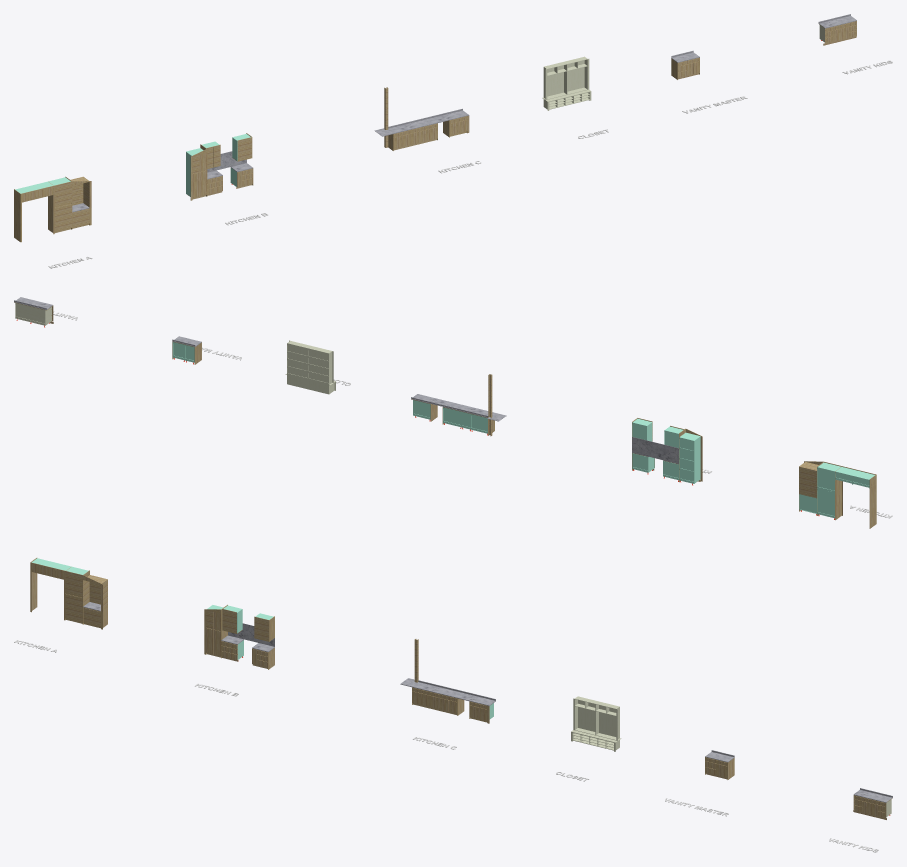
File: DAIKITCHEN.glb
The picture shows the model from 3 angles, top to bottom: view 1: azimuth 30°, elevation 25°; view 2: azimuth 150°, elevation 25°; view 3: azimuth 330°, elevation 25°; orthographic projection. The views are drawn at different scales.
Visible parts, largest first — view 1: G-DAK26_Đá_KITC.T1T3; view 2: G-DAK26_Đá_KITB, G-DAK26_Hậu_CLOS.T2, G-DAK26_Hậu_CLOS.T2.001, G-DAK26_Hậu_KITB.T1, G-DAK26_Hậu_KITA.T5, G-DAK26_Đá_KITC.T1T3; view 3: no part large enough to name.
Part boxes in pixels (<box>): G-DAK26_Đá_KITC.T1T3: <box>388,110,469,133</box>; G-DAK26_Đá_KITB: <box>632,437,678,463</box>; G-DAK26_Hậu_CLOS.T2: <box>308,350,328,382</box>; G-DAK26_Hậu_CLOS.T2.001: <box>287,345,307,377</box>; G-DAK26_Hậu_KITB.T1: <box>680,439,693,481</box>; G-DAK26_Hậu_KITA.T5: <box>799,466,816,498</box>; G-DAK26_Đá_KITC.T1T3: <box>411,394,494,417</box>.
Size of the model in its own units: 45.62 by 3.63 by 2.91.
Materials: 8 (4 with a texture image).
